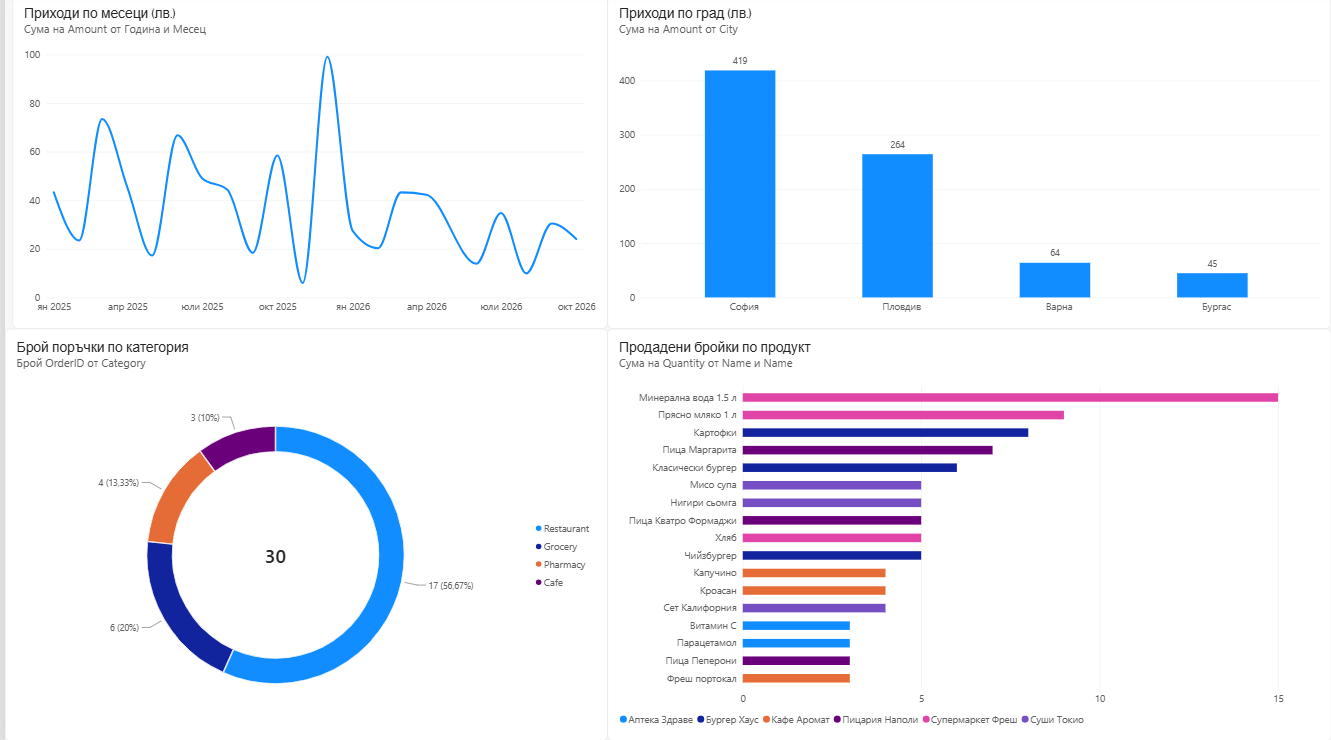

Layout of this report page (visuals, bound fields, positions):
{"tool":"powerbi","page":{"name":"Glovo – Отчет","canvas":[1920,1080],"ordinal":0},"visuals":[{"type":"lineChart","title":"Приходи по месеци (лв.)","fields":{"Category":["Payment.PaymentDate.Variation.Йерархия на дати.Година","Payment.PaymentDate.Variation.Йерархия на дати.Месец"],"Y":["Sum(Payment.Amount)"]},"box":[10.9,0,861.4,483.2],"z":0},{"type":"donutChart","title":"Брой поръчки по категория","fields":{"Category":["Store.Category"],"Y":["CountNonNull(Order.OrderID)"]},"box":[0,483.7,872.7,596.9],"z":1},{"type":"barChart","title":"Продадени бройки по продукт","fields":{"Category":["Product.Name"],"Series":["Store.Name"],"Y":["Sum(OrderItem.Quantity)"]},"box":[872.7,483.7,1047.7,596.9],"z":2},{"type":"columnChart","title":"Приходи по град (лв.)","fields":{"Category":["Store.City"],"Y":["Sum(Payment.Amount)"]},"box":[873,0,1047,483],"z":3}]}

Visuals, with their boxes in screenshot pixels (x1, y1, x2, y2), scaled from the page's 1920x1080 canvas onto the 1331x740 screenshot:
"Приходи по месеци (лв.)" lineChart: [8, 0, 605, 331]
"Брой поръчки по категория" donutChart: [0, 331, 605, 739]
"Продадени бройки по продукт" barChart: [605, 331, 1330, 739]
"Приходи по град (лв.)" columnChart: [605, 0, 1330, 331]
